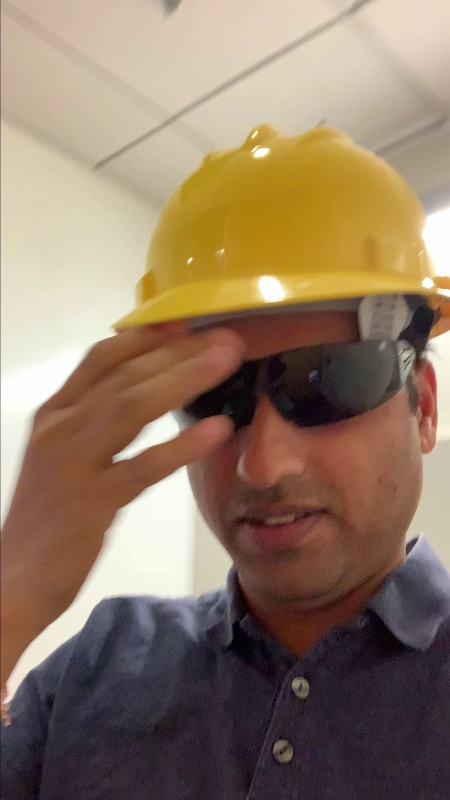glasses: (134, 329, 421, 447)
helmet: (131, 121, 450, 333)
